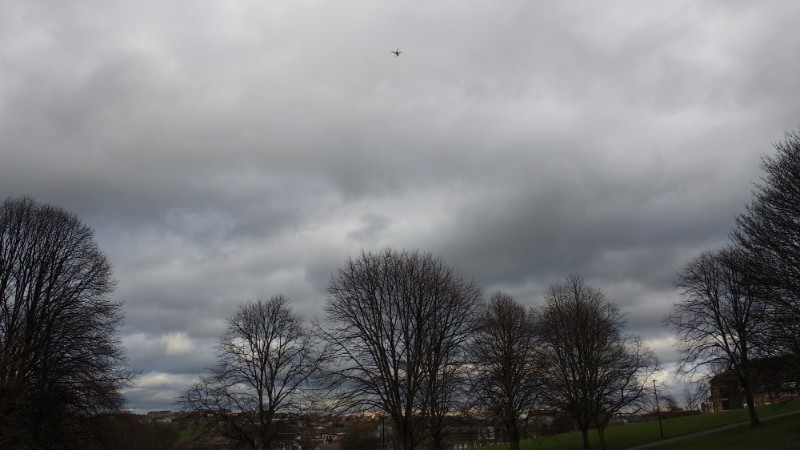drone: (391, 48, 403, 57)
